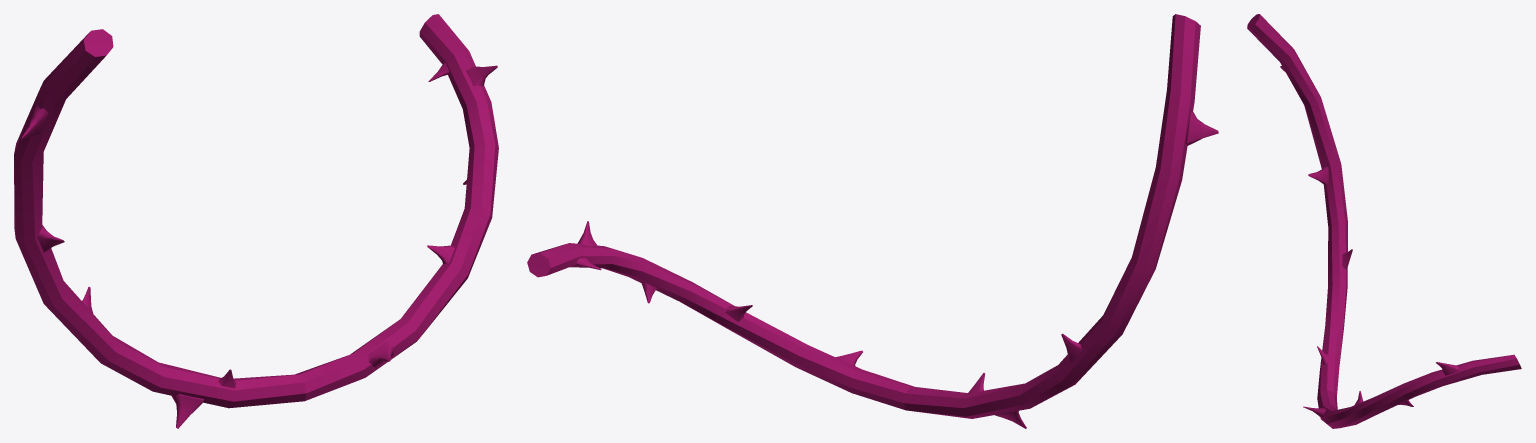
File: N_Brambles_03.fbx
The picture shows the model from 3 angles, left to right: view 1: azimuth 30°, elevation 25°; view 2: azimuth 150°, elevation 25°; view 3: azimuth 270°, elevation 25°; orthographic projection. The views are drawn at different scales.
Parts seen in each view (by area): view 1: N_Brambles_03; view 2: N_Brambles_03; view 3: N_Brambles_03.
Part boxes in pixels (box(x1,y1,x2,y2)): N_Brambles_03: box(14, 14, 498, 428); N_Brambles_03: box(527, 14, 1218, 428); N_Brambles_03: box(1247, 14, 1521, 428).
Size of the model in its own units: 22.93 by 17.22 by 13.83.
